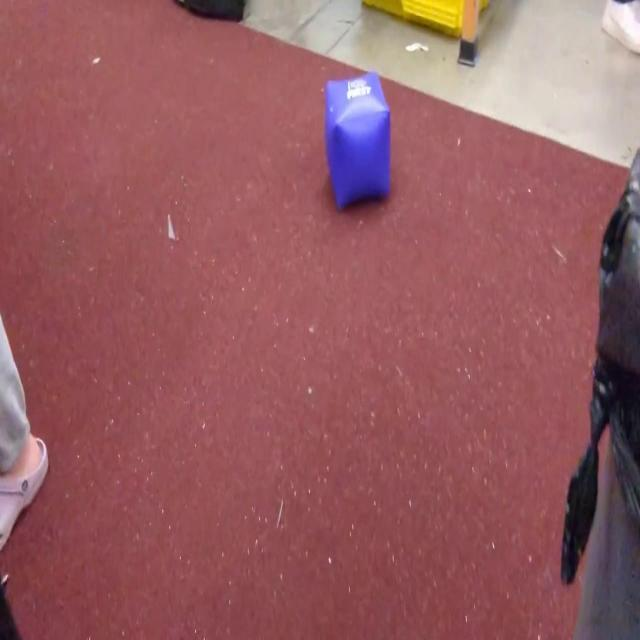frc_cube: (325, 68, 393, 212)
